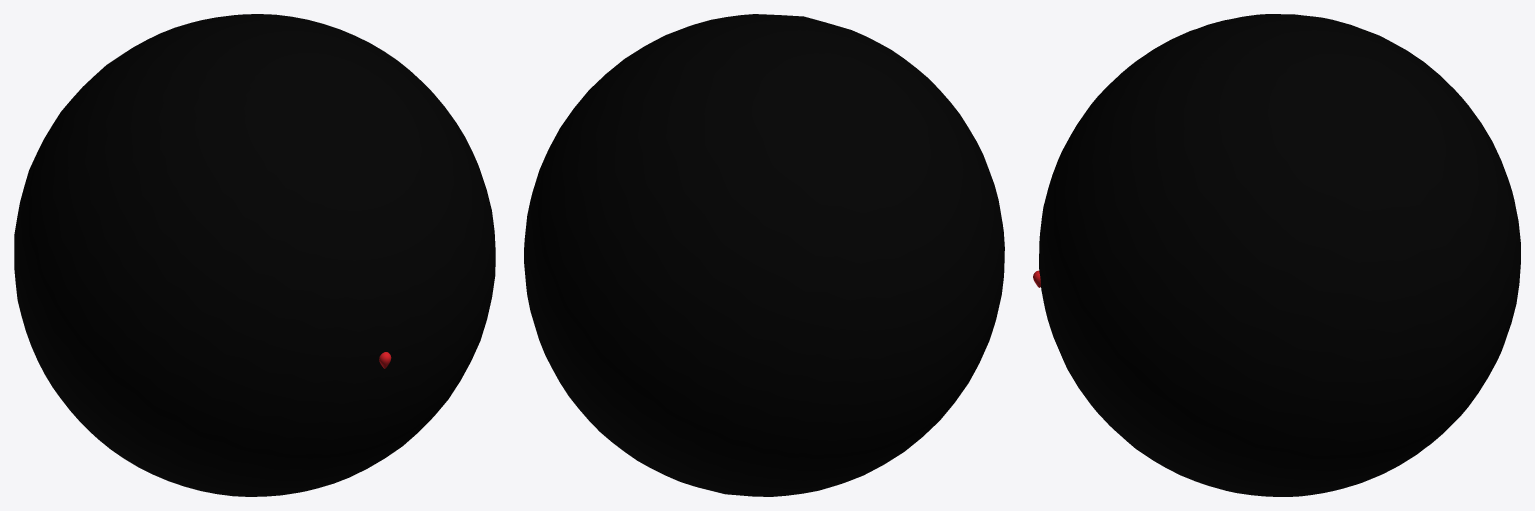
Rendered from FinalEarthModelWithMarker.glb.
3 renders of one model, left to right at view 1: azimuth 30°, elevation 25°; view 2: azimuth 150°, elevation 25°; view 3: azimuth 270°, elevation 25°, orthographic.
Visible parts, largest first — view 1: node_id11; view 2: node_id11; view 3: node_id11.
Part boxes in pixels (left/top/right/bottom): node_id11: left=14, top=14, right=495, bottom=496; node_id11: left=524, top=14, right=1004, bottom=496; node_id11: left=1039, top=14, right=1520, bottom=496.
Bounding box in the file's own units: 0.3706 × 0.3722 × 0.3754.
Materials: 2 (2 with a texture image).
